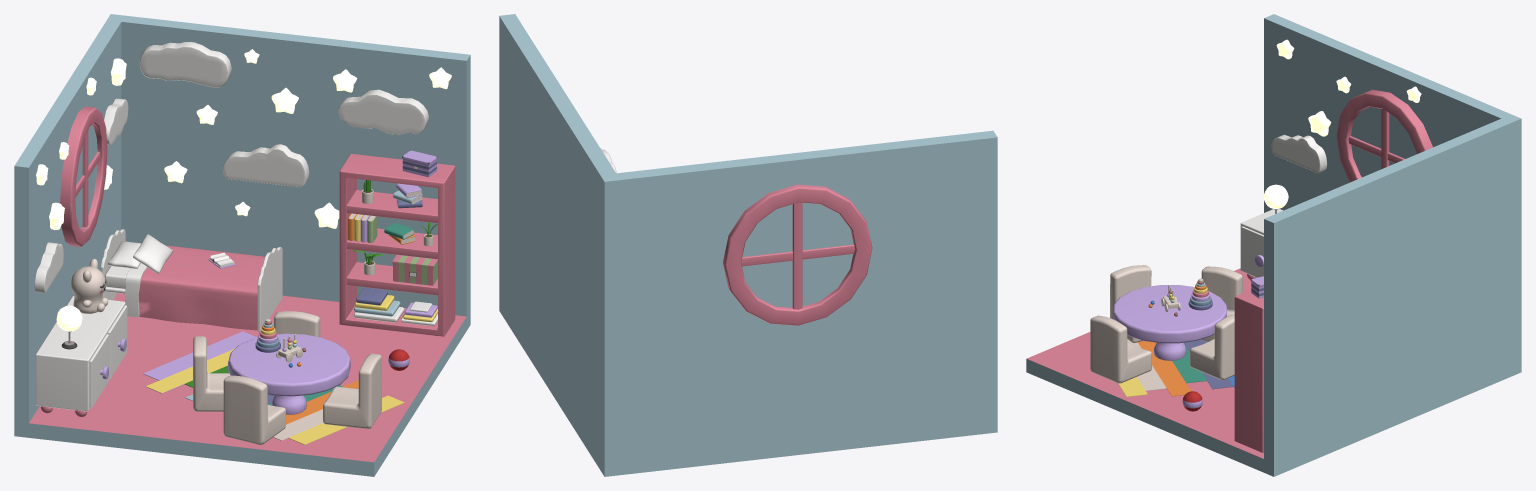
File: room.glb
The picture shows the model from 3 angles, left to right: view 1: azimuth 30°, elevation 25°; view 2: azimuth 150°, elevation 25°; view 3: azimuth 270°, elevation 25°; orthographic projection. The views are drawn at different scales.
Visible parts, largest first — view 1: Room_2_Wall_1, Room_2_Floor_1, Room_2_Cupboard_2, Room_2_Bed_1, Room_2_Cupboard_1, Room_2_Table_1, Room_2_Window_1, Room_2_Carpet_1, Room_2_Chair_2, Room_2_Decoration_Cloud_2, Room_2_Decoration_Cloud_1, Room_2_Chair_1 (+16 smaller); view 2: Room_2_Wall_1, Room_2_Window_1, Room_2_Floor_1; view 3: Room_2_Wall_1, Room_2_Floor_1, Room_2_Window_1, Room_2_Table_1, Room_2_Cupboard_2, Room_2_Chair_1, Room_2_Carpet_1, Room_2_Chair_4, Room_2_Cupboard_1, Room_2_Decoration_Cloud_5, Room_2_Chair_3, Room_2_Chair_2 (+1 smaller).
Boxes of the visible parts, box(x1,y1,x2,y2) form: Room_2_Wall_1: box(14, 14, 470, 423); Room_2_Floor_1: box(14, 293, 470, 476); Room_2_Cupboard_2: box(339, 153, 455, 336); Room_2_Bed_1: box(100, 229, 282, 332); Room_2_Cupboard_1: box(35, 296, 127, 417); Room_2_Table_1: box(228, 333, 350, 414); Room_2_Window_1: box(60, 106, 107, 246); Room_2_Carpet_1: box(143, 331, 404, 444); Room_2_Chair_2: box(223, 375, 285, 444); Room_2_Decoration_Cloud_2: box(139, 42, 231, 87); Room_2_Decoration_Cloud_1: box(337, 89, 429, 134); Room_2_Chair_1: box(323, 353, 381, 428); Room_2_Wall_1: box(499, 14, 997, 460); Room_2_Window_1: box(723, 184, 872, 325); Room_2_Floor_1: box(499, 295, 997, 476); Room_2_Wall_1: box(1264, 14, 1521, 462); Room_2_Floor_1: box(1026, 268, 1521, 476); Room_2_Window_1: box(1336, 89, 1432, 182); Room_2_Table_1: box(1113, 285, 1226, 360); Room_2_Cupboard_2: box(1234, 289, 1263, 452); Room_2_Chair_1: box(1090, 315, 1151, 383); Room_2_Carpet_1: box(1118, 339, 1234, 396); Room_2_Chair_4: box(1190, 314, 1234, 380); Room_2_Cupboard_1: box(1240, 209, 1283, 279); Room_2_Decoration_Cloud_5: box(1271, 134, 1327, 173); Room_2_Chair_3: box(1200, 266, 1242, 341); Room_2_Chair_2: box(1110, 265, 1151, 342).
Size of the model in its own units: 7.07 by 4 by 7.07.
3 materials, 2 textured.
